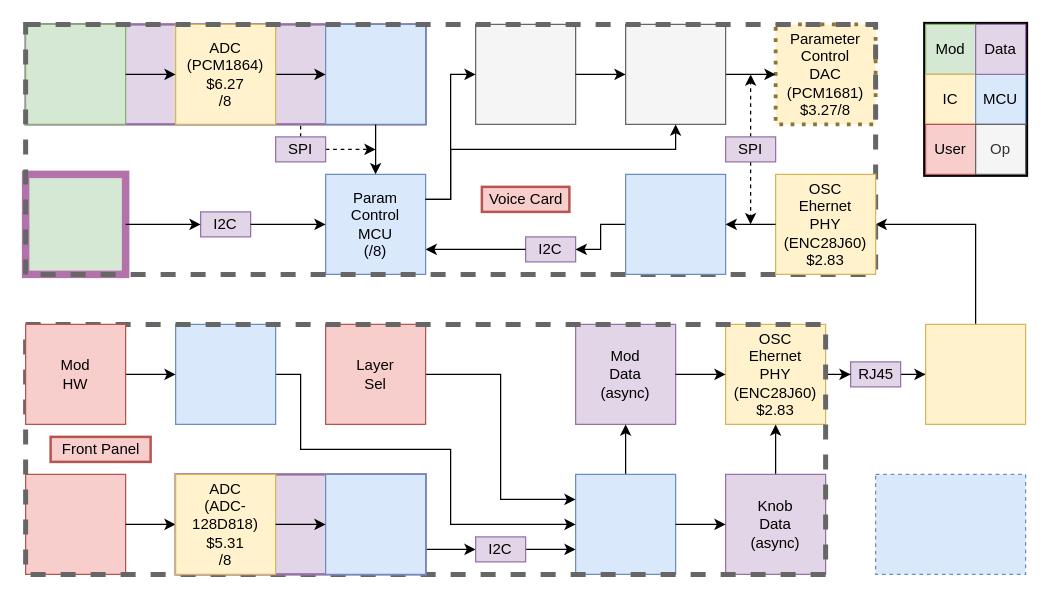
Some shapes in this 1049 by 598 pixel diagram are drawn without their labels. Each missing label, with the centre of its shape:
"Async Mod Sources" belongs at pixel 75 224.
"Front Panel Main MCU" belongs at pixel 625 523.
"Knob Aggregator MCU" belongs at pixel 375 523.
"Knobs" belongs at pixel 75 523.
"Mobo Ethernet Switch ??" belongs at pixel 975 373.
"Mod Assign MCU" belongs at pixel 225 373.
"Mod Data BCast MCU" belongs at pixel 375 73.
"Perf Mod Operator" belongs at pixel 525 73.
"Sum Knob Pos (clipped)" belongs at pixel 675 73.
"Synchronous Mod Sources" belongs at pixel 75 73.
"Unless otherwise noted, all MCUs are SAMD11 ($1.15)" belongs at pixel 950 523.
"Voice Main MCU" belongs at pixel 675 223.
